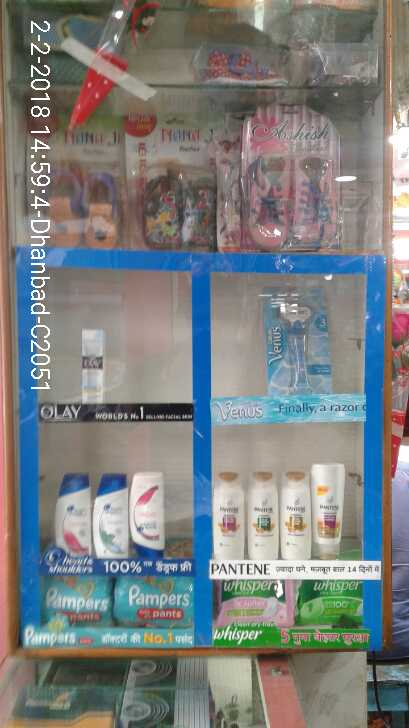venus: (269, 288, 333, 390)
